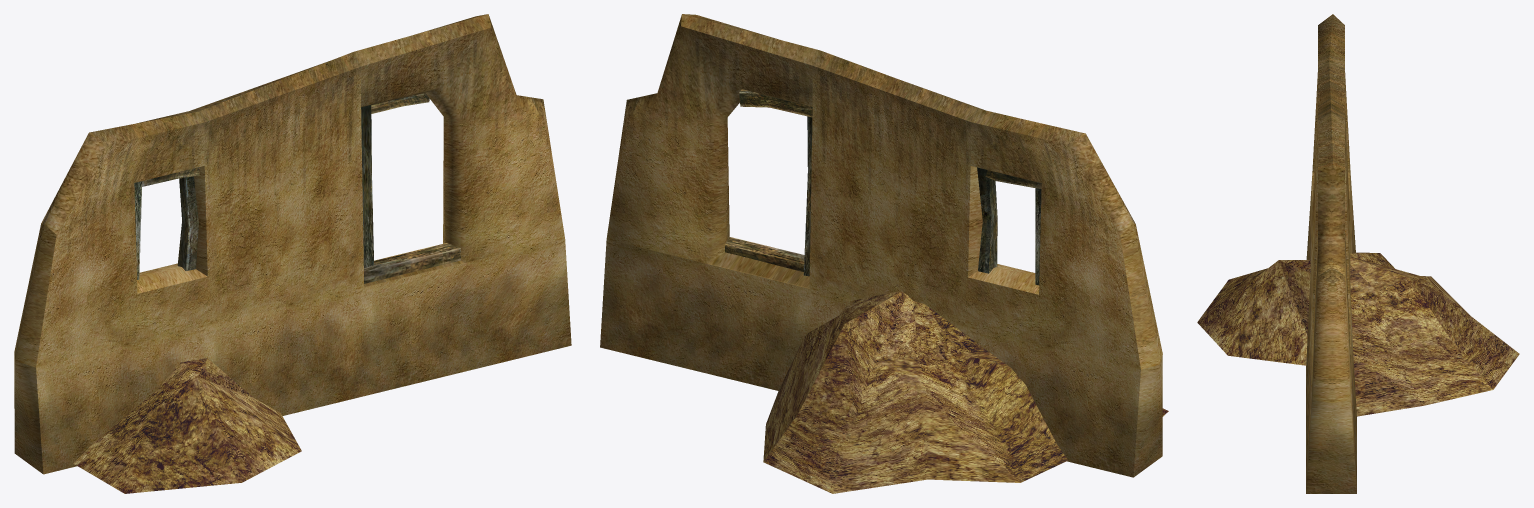
3 renders of one model, left to right at view 1: azimuth 30°, elevation 25°; view 2: azimuth 150°, elevation 25°; view 3: azimuth 270°, elevation 25°, orthographic. The views are drawn at different scales.
Parts seen in each view (by area): view 1: hr_rn5; view 2: hr_rn5; view 3: hr_rn5.
Part boxes in pixels (x1,y1,x2,y2): hr_rn5: (14, 14, 571, 493); hr_rn5: (600, 14, 1168, 493); hr_rn5: (1197, 14, 1519, 493).
Size of the model in its own units: 8.14 by 4.81 by 4.73.
7 materials, 7 textured.
